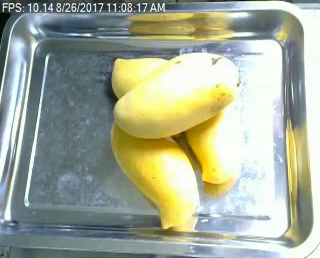Mango: (110, 51, 240, 139), (109, 121, 202, 232), (184, 93, 248, 186), (112, 54, 172, 97)
